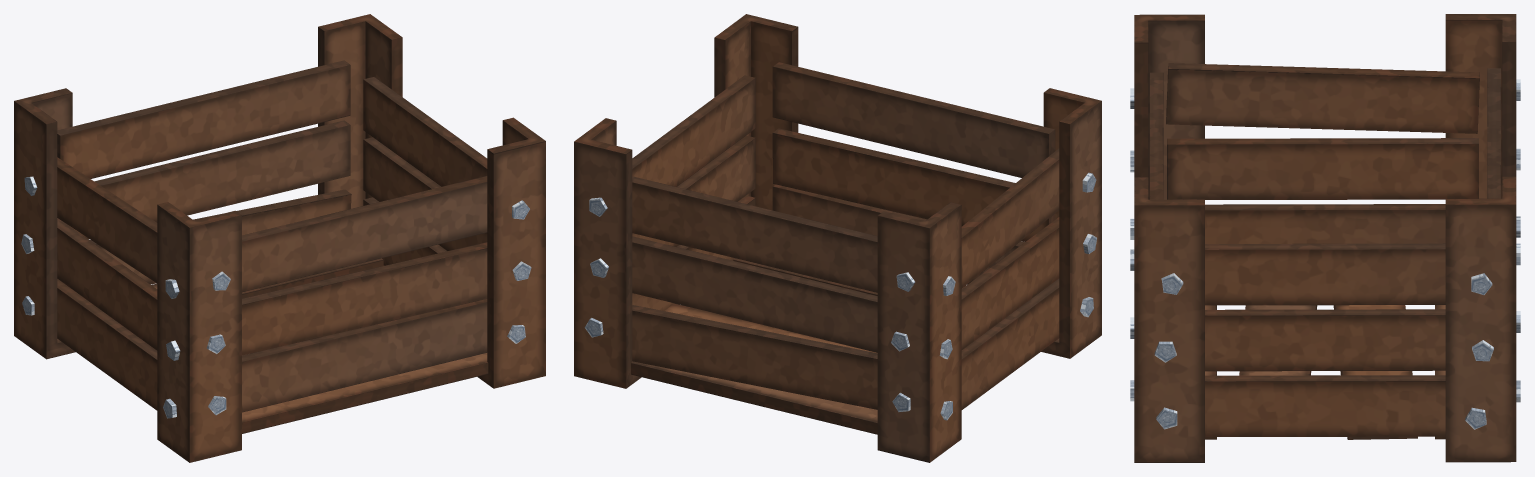
The model's file is MedievalCrate.fbx.
The picture shows the model from 3 angles, left to right: view 1: azimuth 30°, elevation 25°; view 2: azimuth 150°, elevation 25°; view 3: azimuth 270°, elevation 25°; orthographic projection. The views are drawn at different scales.
Visible parts, largest first — view 1: Box002; view 2: Box002; view 3: Box002.
Boxes of the visible parts, x1=… form: Box002: x1=14, y1=14, x2=545, y2=462; Box002: x1=574, y1=14, x2=1101, y2=462; Box002: x1=1134, y1=14, x2=1516, y2=462.
Bounding box in the file's own units: 38.05 × 23.41 × 32.14.
Materials: 2 (2 with a texture image).
